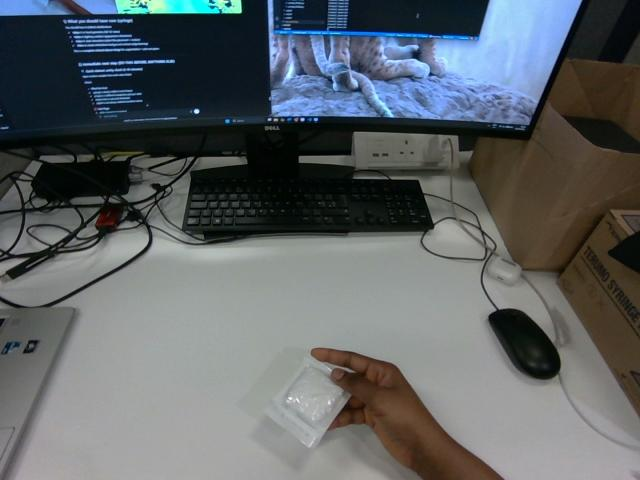gauze: (265, 356, 349, 447)
